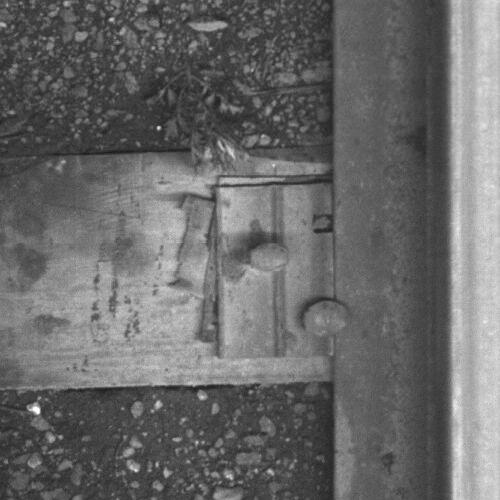do: (212, 182, 352, 357)
rail: (448, 1, 500, 500)
tie_wood: (1, 155, 334, 384)
